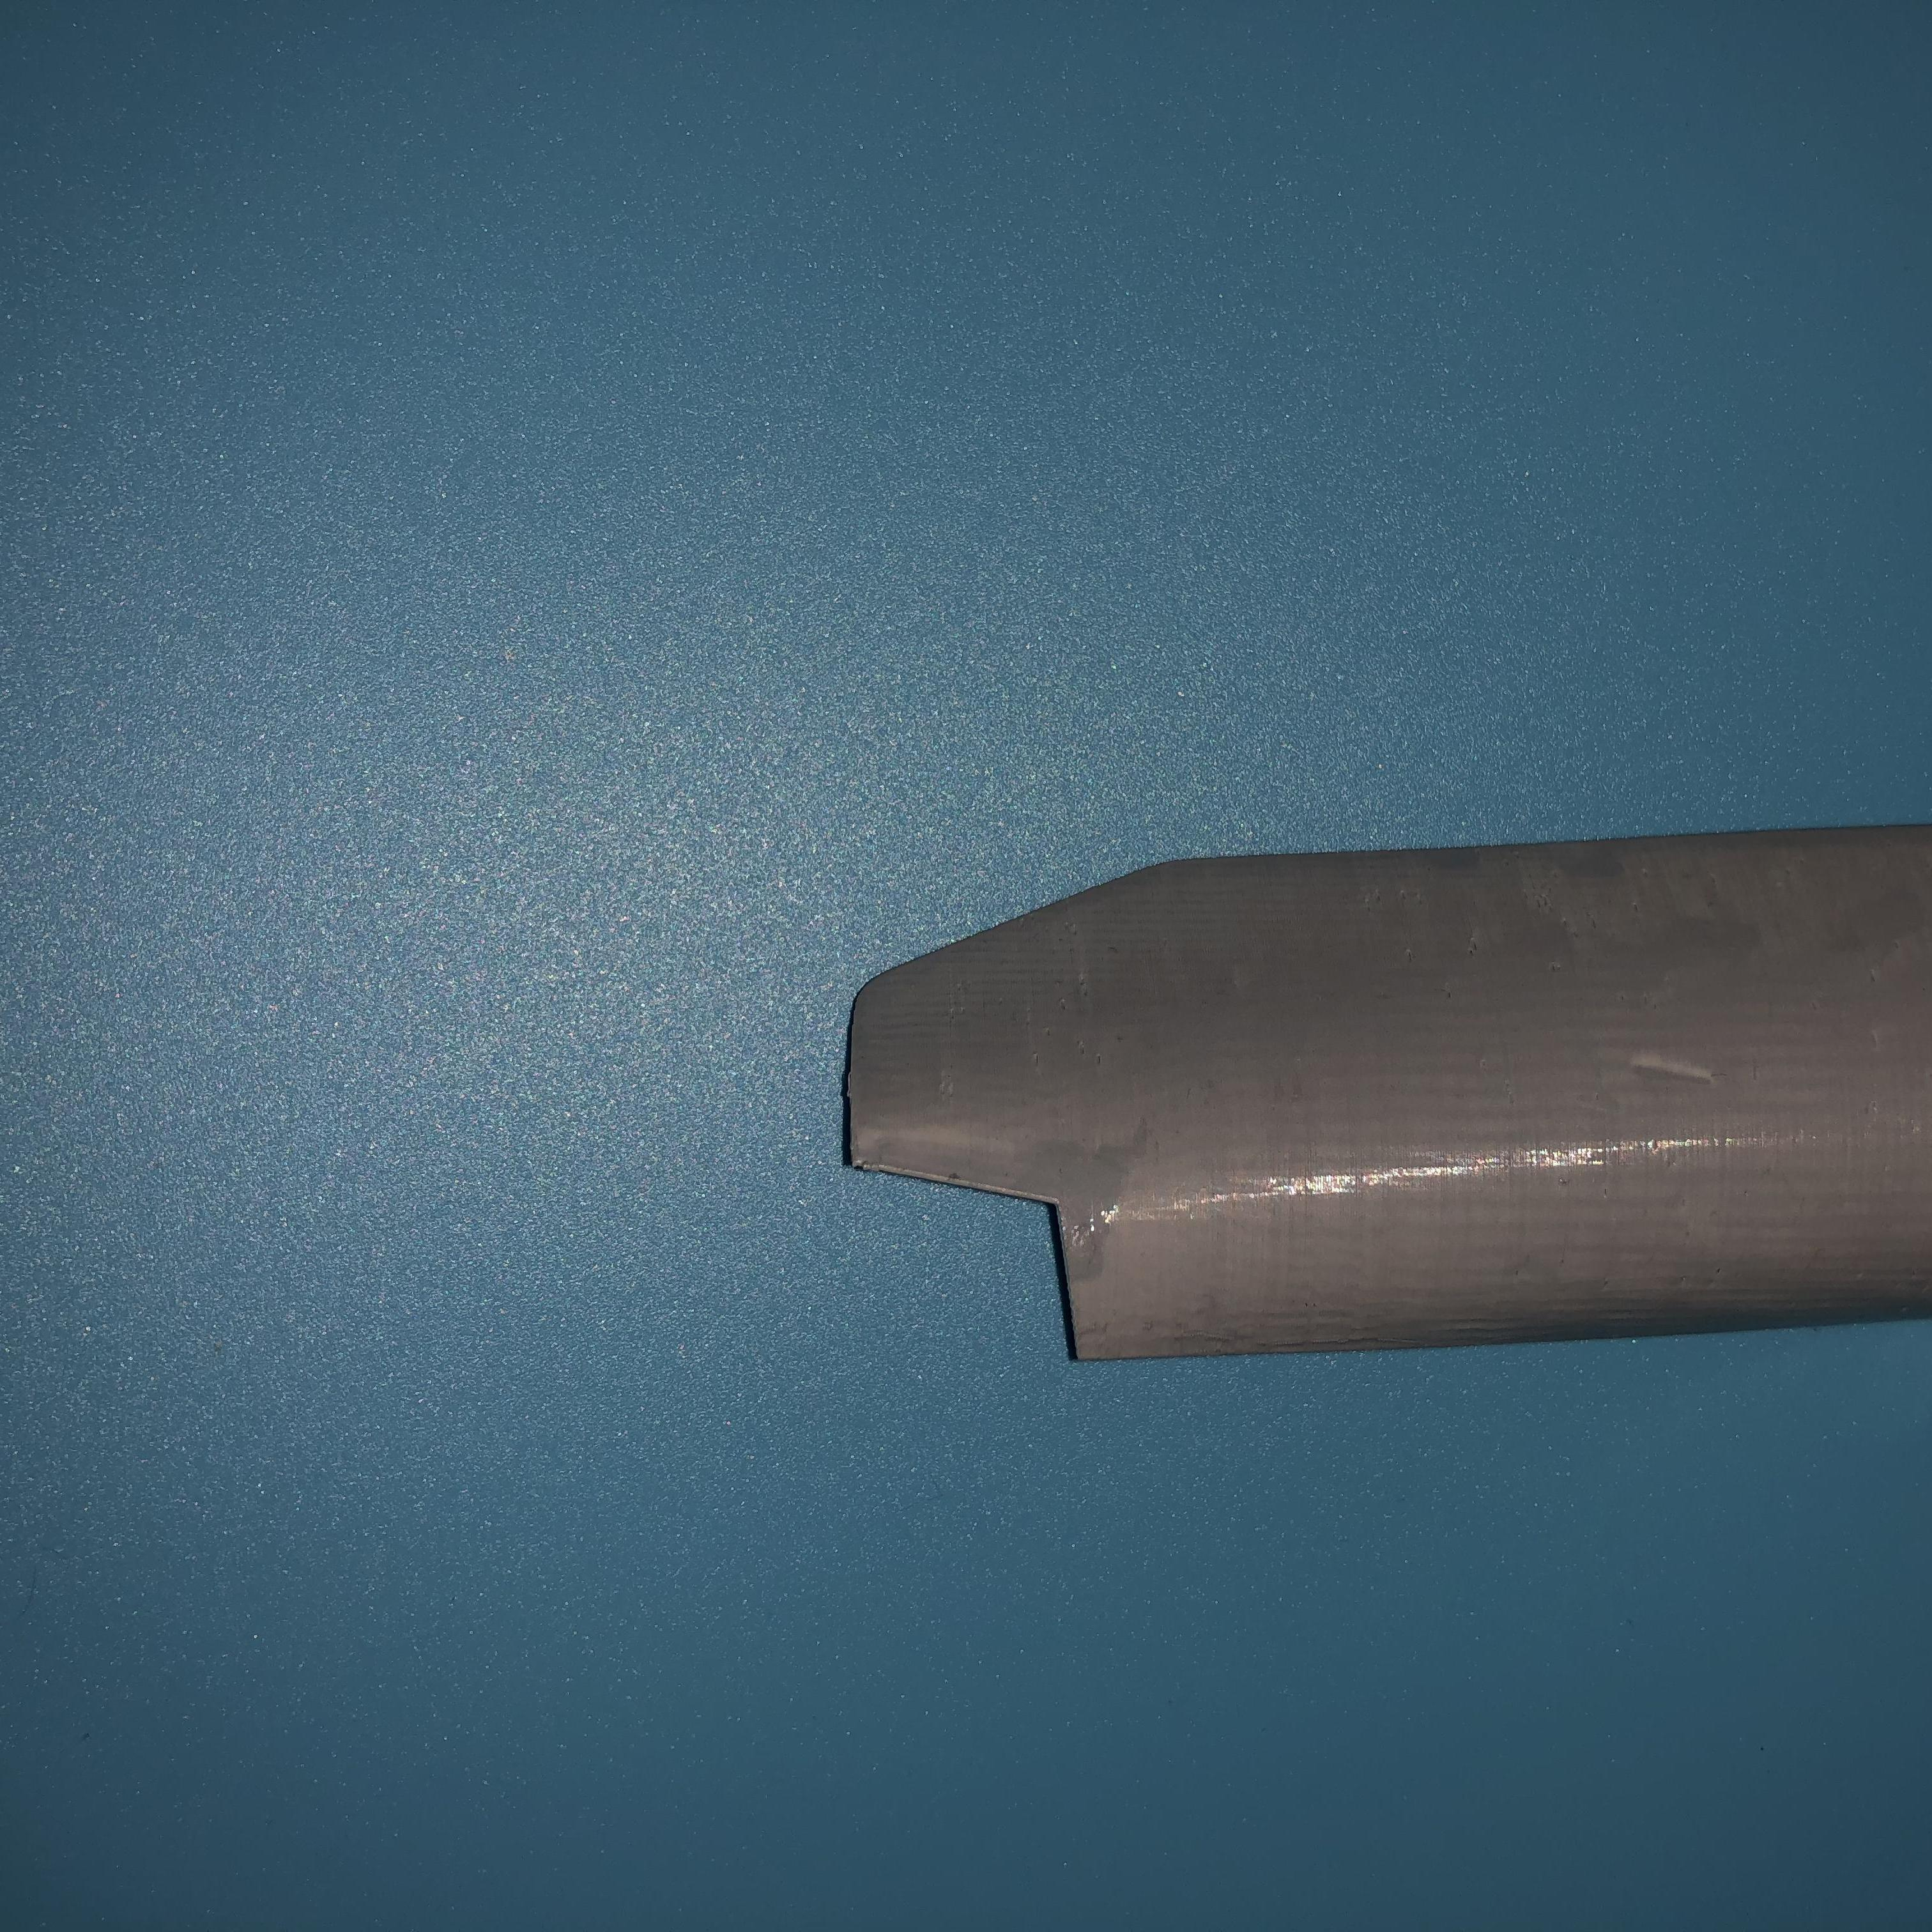fracture: (846, 1157, 1099, 1352)
